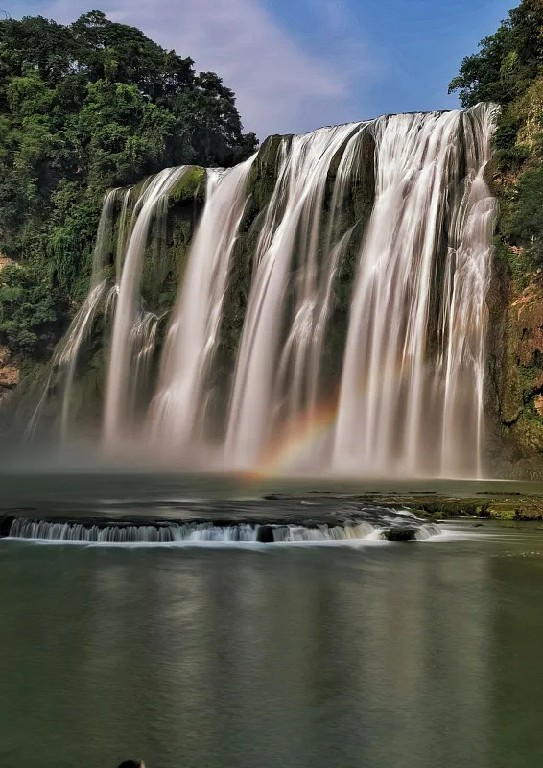Huangguoshu: (44, 103, 497, 478)
